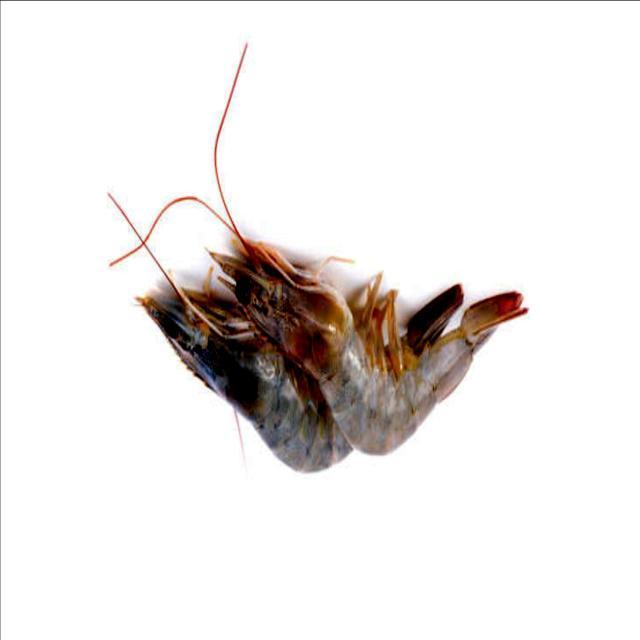shrimp: (220, 258, 525, 454), (141, 293, 351, 472), (412, 287, 462, 345)
